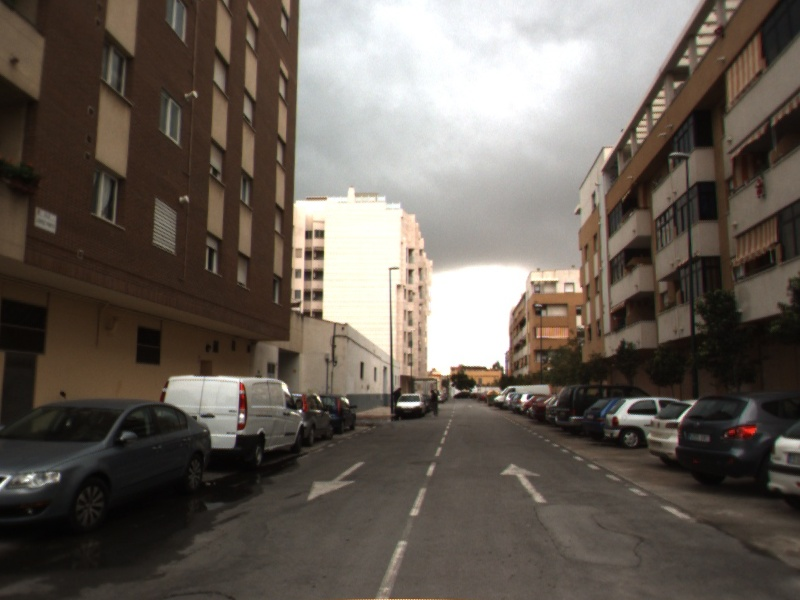STRAIGHT: (498, 462, 550, 505)
